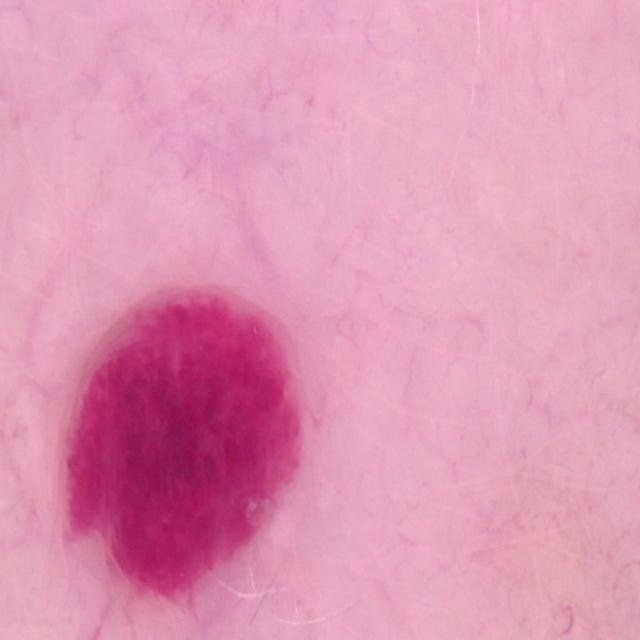Vascular Lesions: (54, 256, 336, 640)
